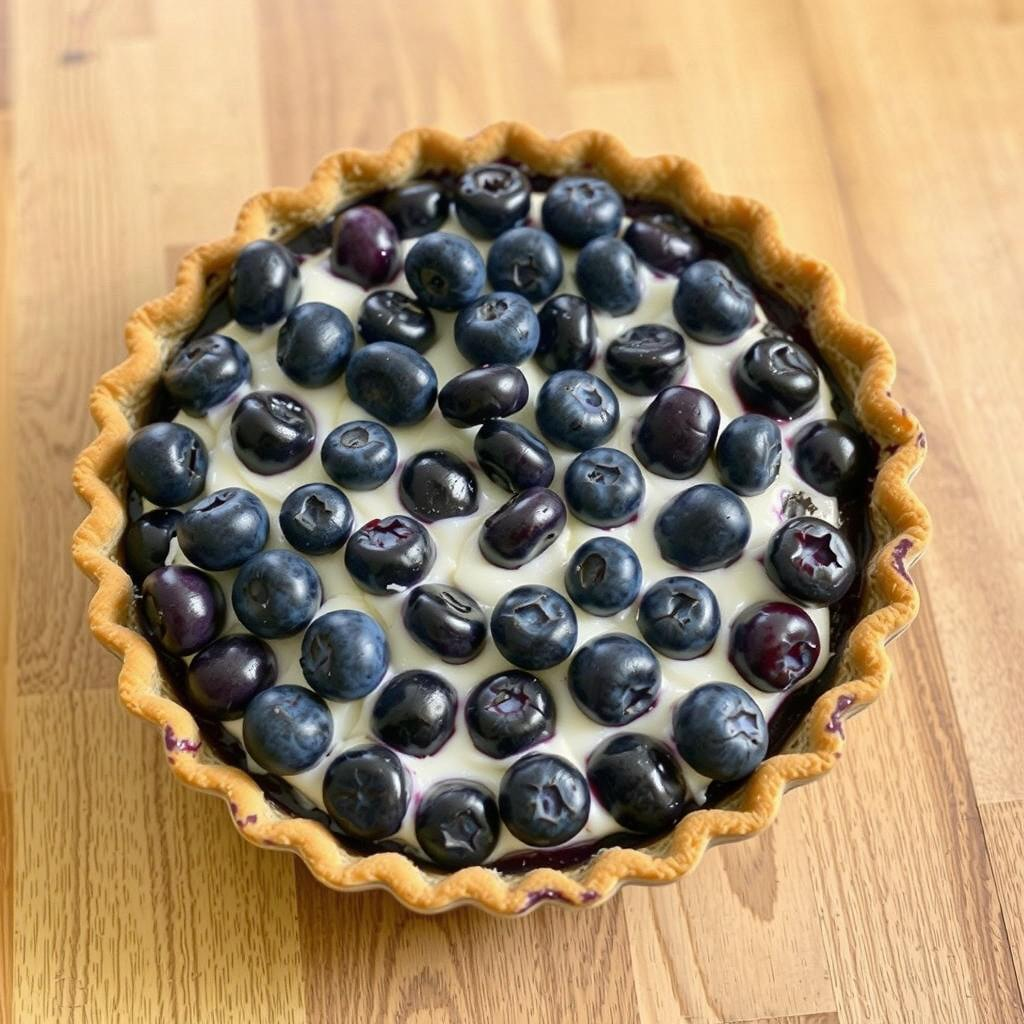pie: (59, 116, 933, 926)
